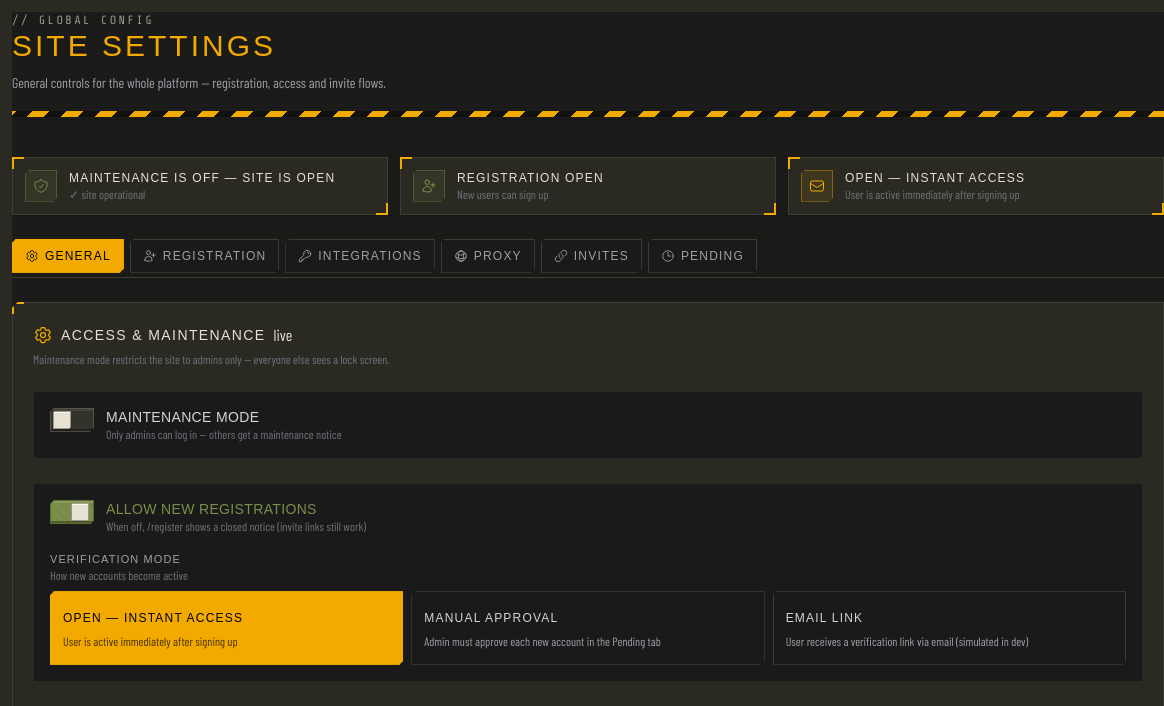
Test case: GlobalSettingsForm status strip › flips the registration status when the registration switch is toggled
The image size is (1164, 706).
Expected: the text "Registration OPEN" is shown, 457,170 -> 604,186
Click the switch named "Allow new registrations" at x=72, y=512, box 50,500 -> 94,524
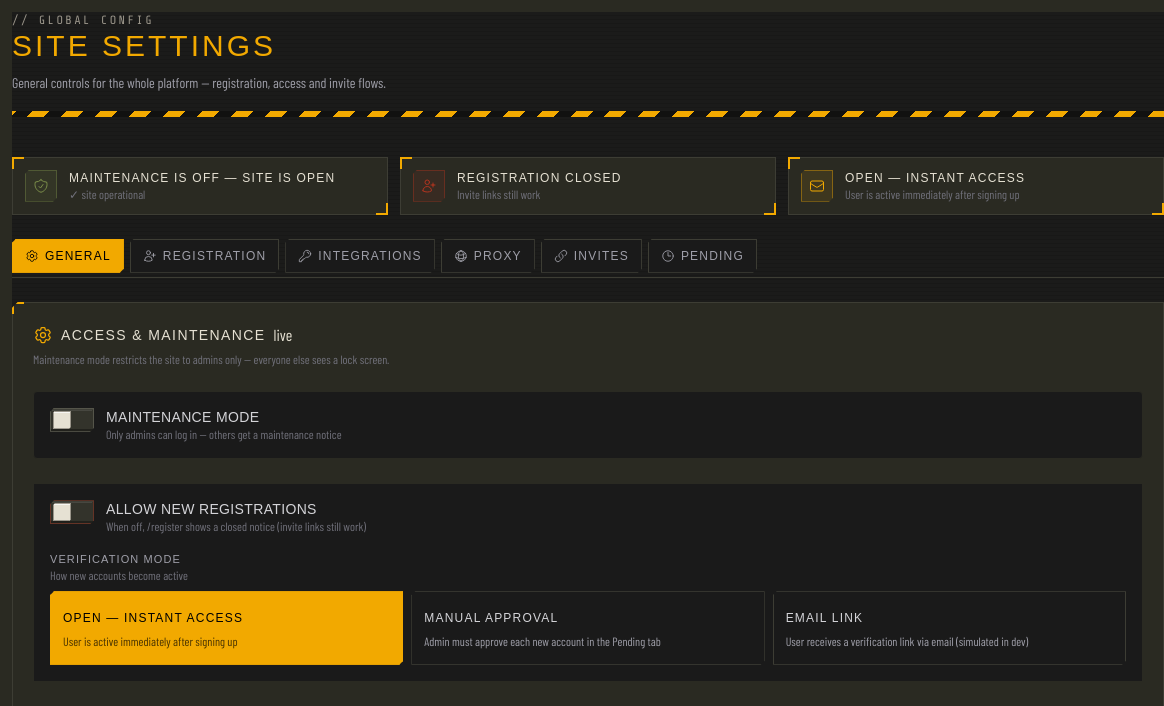
Expected: the text "Registration CLOSED" is shown, 457,170 -> 622,186
Expected: the text "Registration OPEN" is gone
